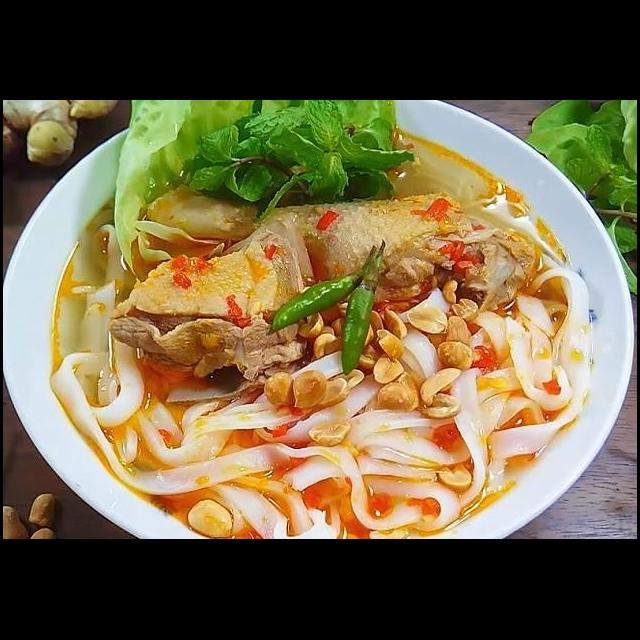mi: (44, 328, 347, 540), (284, 286, 464, 540), (444, 266, 598, 512), (72, 220, 136, 360)
thit ga: (141, 180, 545, 318), (103, 210, 320, 398)
